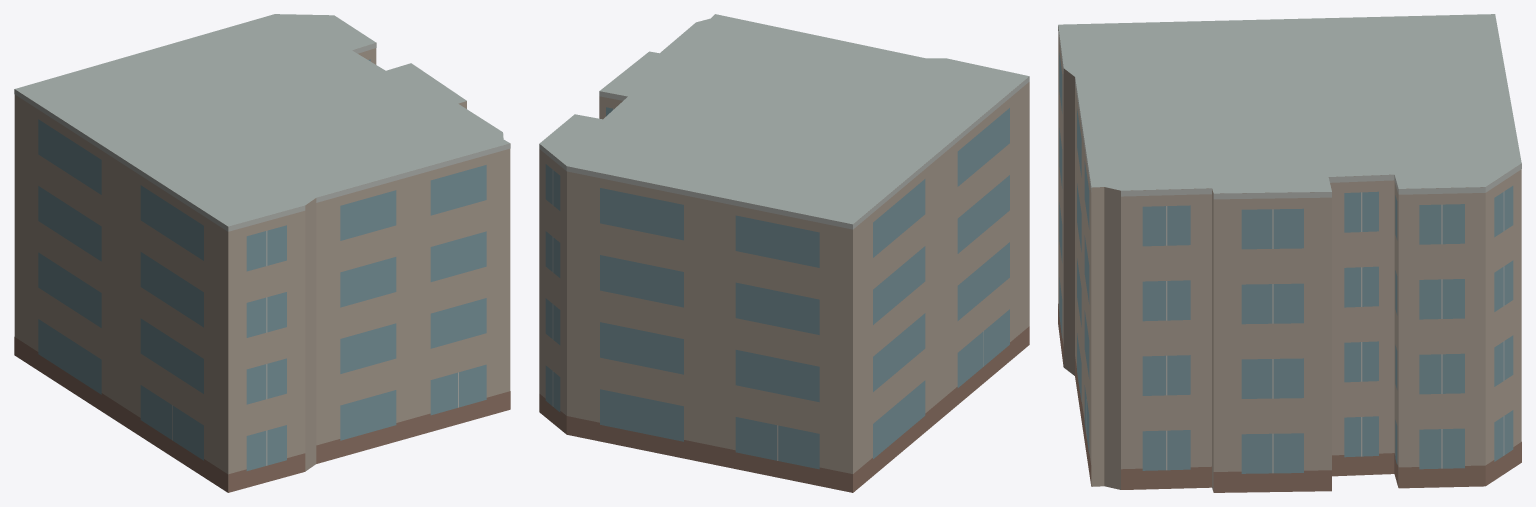
The model's file is survey-upis-32742150.glb.
3 views of the same model, side by side, from view 1: azimuth 30°, elevation 25°; view 2: azimuth 150°, elevation 25°; view 3: azimuth 270°, elevation 25° (orthographic). The views are drawn at different scales.
Visible parts, largest first — view 1: survey-upis-32742150.tmp; view 2: survey-upis-32742150.tmp; view 3: survey-upis-32742150.tmp.
Part boxes in pixels (x1,y1,x2,y2): survey-upis-32742150.tmp: (14, 14, 510, 492); survey-upis-32742150.tmp: (539, 14, 1029, 492); survey-upis-32742150.tmp: (1058, 14, 1521, 492).
Size of the model in its own units: 16.09 by 12.5 by 17.55.
